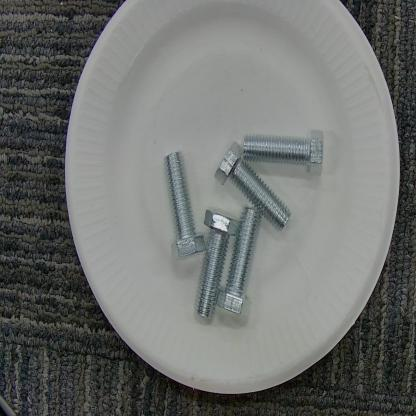FOD: (165, 126, 333, 324)
